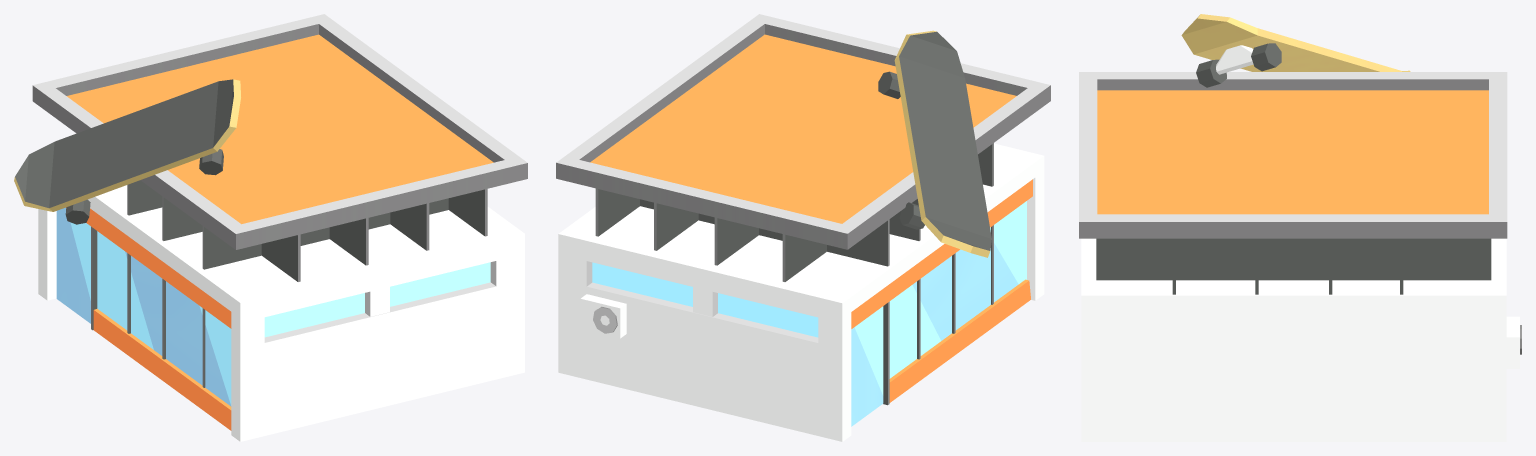
File: tile_for_home_1x1.006 (4) skateboard.glb
The picture shows the model from 3 angles, left to right: view 1: azimuth 30°, elevation 25°; view 2: azimuth 150°, elevation 25°; view 3: azimuth 270°, elevation 25°; orthographic projection. The views are drawn at different scales.
Visible parts, largest first — view 1: services.008; view 2: services.008; view 3: services.008.
Part boxes in pixels (x1,y1,x2,y2): services.008: [14, 14, 527, 441]; services.008: [556, 14, 1050, 441]; services.008: [1079, 14, 1521, 441].
Size of the model in its own units: 7.48 by 5.75 by 7.42.
Materials: 1 (1 with a texture image).
